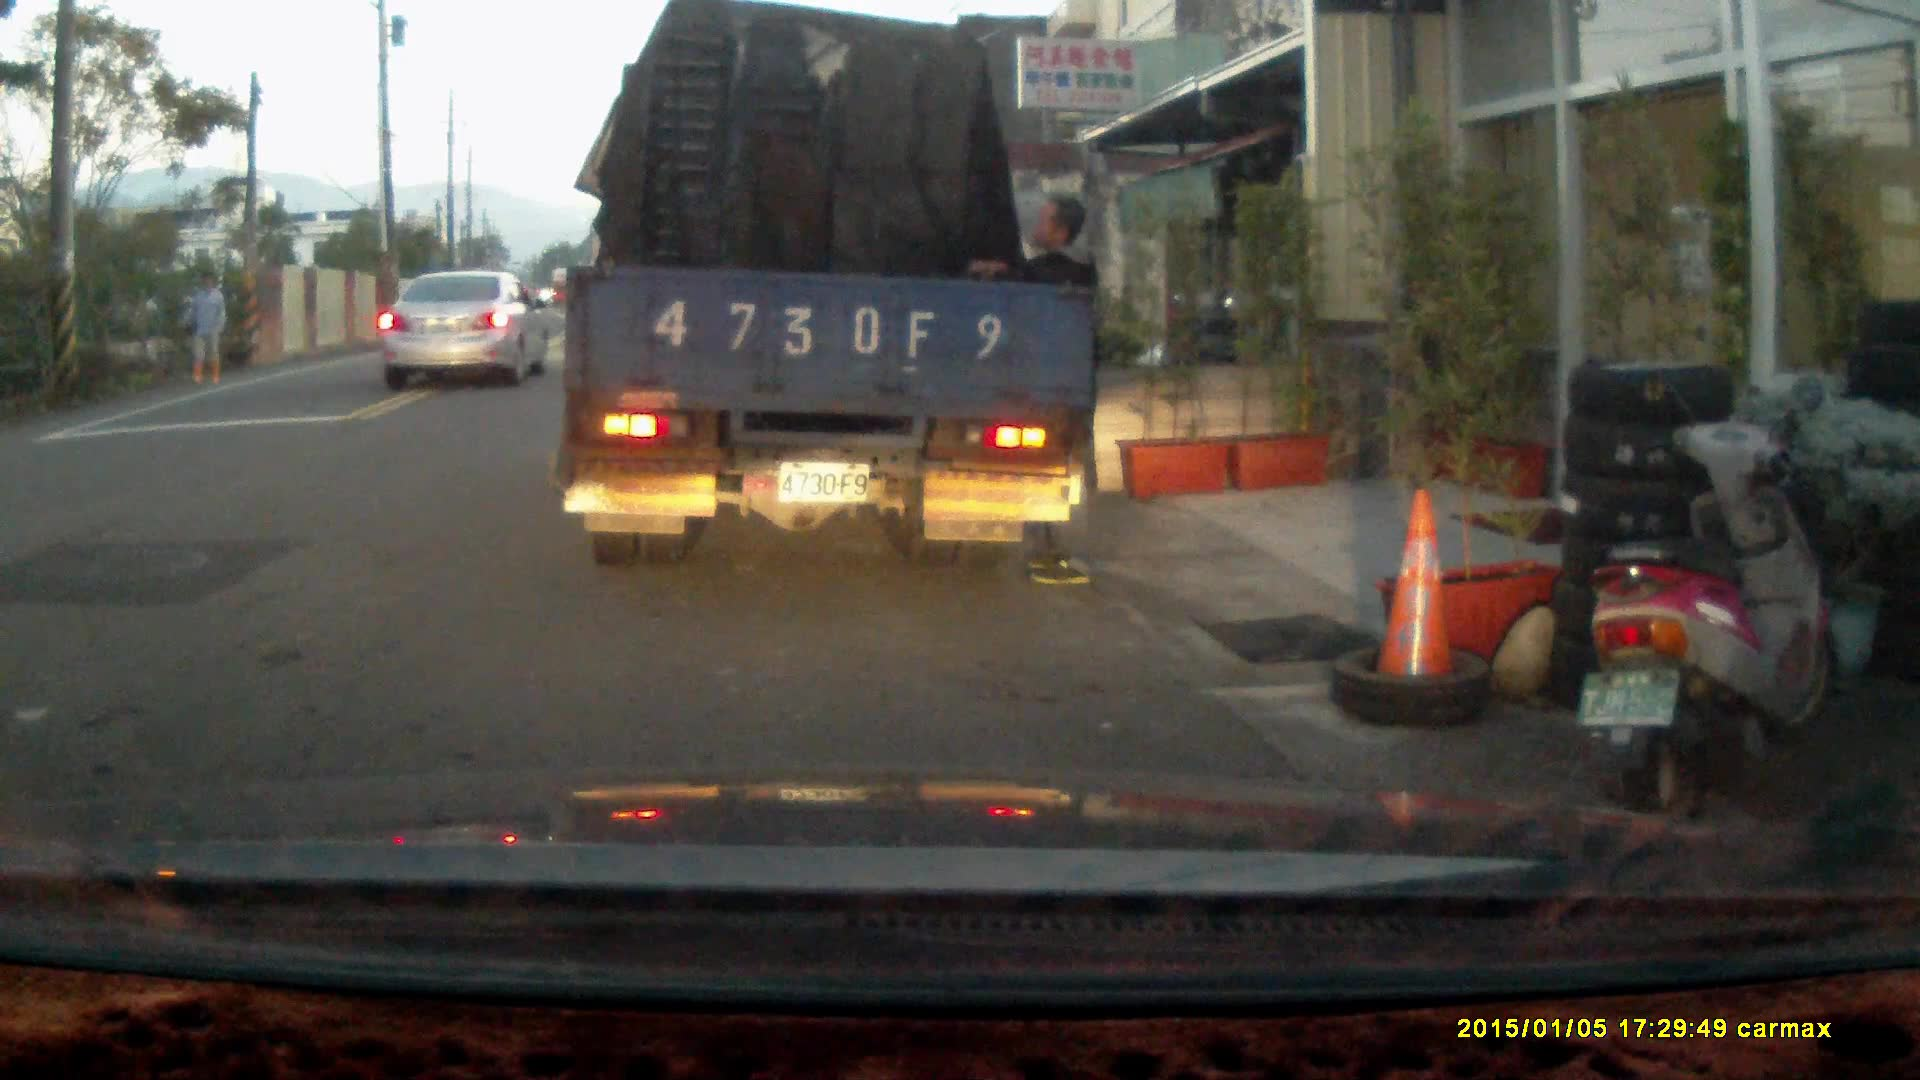pedestrian: (955, 194, 1099, 587), (181, 271, 226, 387)
vehicle: (565, 23, 1097, 572), (377, 268, 558, 391)
